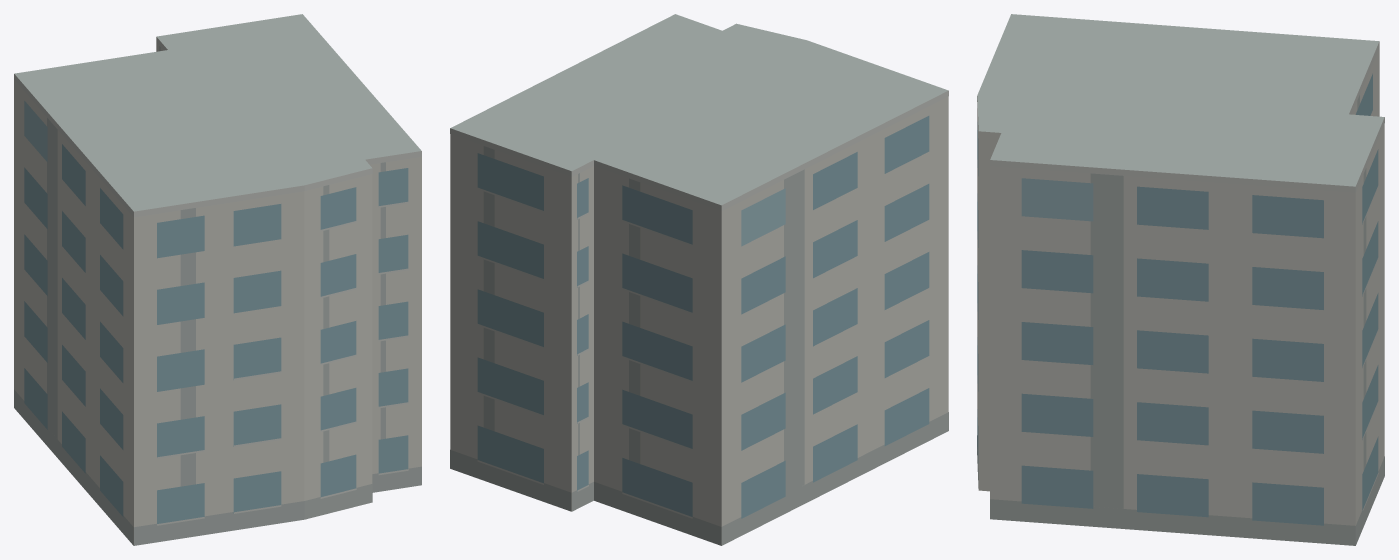
The model's file is survey-upis-32847197.glb.
3 views of the same model, side by side, from view 1: azimuth 30°, elevation 25°; view 2: azimuth 150°, elevation 25°; view 3: azimuth 270°, elevation 25° (orthographic). The views are drawn at different scales.
Visible parts, largest first — view 1: survey-upis-32847197.tmp; view 2: survey-upis-32847197.tmp; view 3: survey-upis-32847197.tmp.
Part boxes in pixels (<box>): survey-upis-32847197.tmp: <box>14,14,421,545</box>; survey-upis-32847197.tmp: <box>450,14,948,545</box>; survey-upis-32847197.tmp: <box>977,14,1384,545</box>.
Size of the model in its own units: 14.64 by 14.2 by 14.61.
